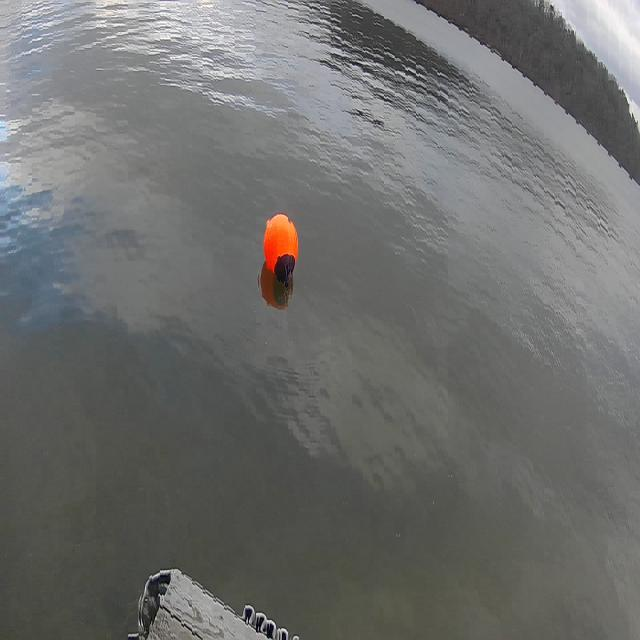Buoy: (260, 202, 304, 295)
